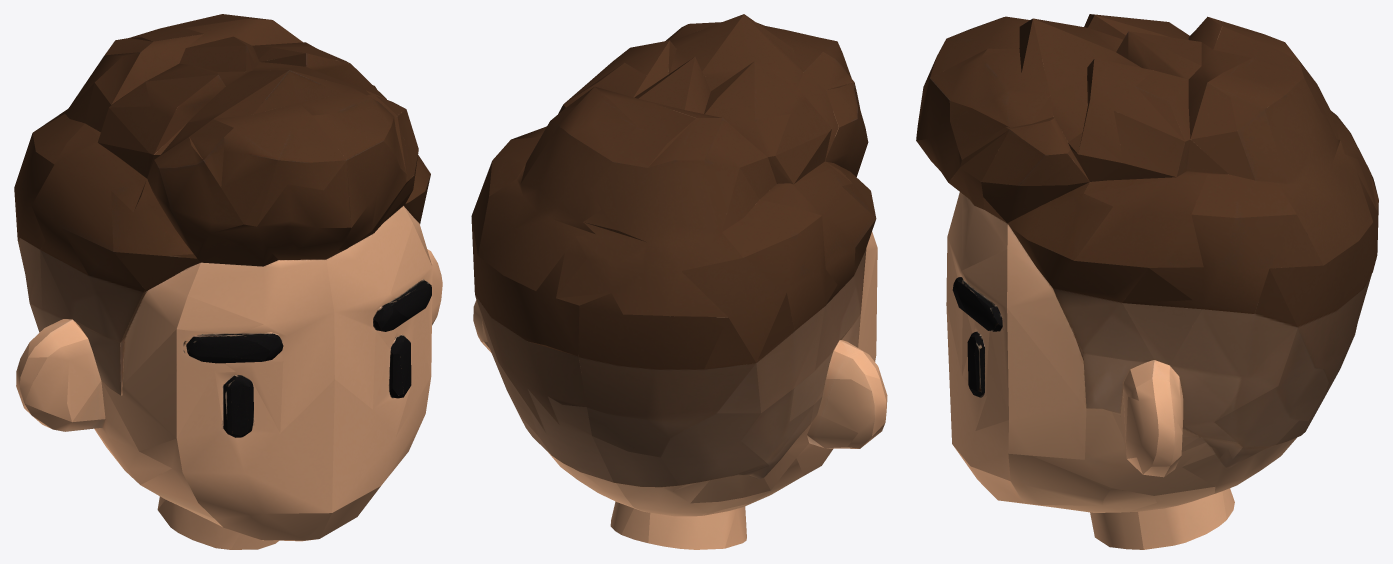
File: quiff-meshy.glb
3 views of the same model, side by side, from view 1: azimuth 30°, elevation 25°; view 2: azimuth 150°, elevation 25°; view 3: azimuth 270°, elevation 25° (orthographic). The views are drawn at different scales.
Bounding box in the file's own units: 1.68 × 1.9 × 1.56.
1 material, 1 textured.
